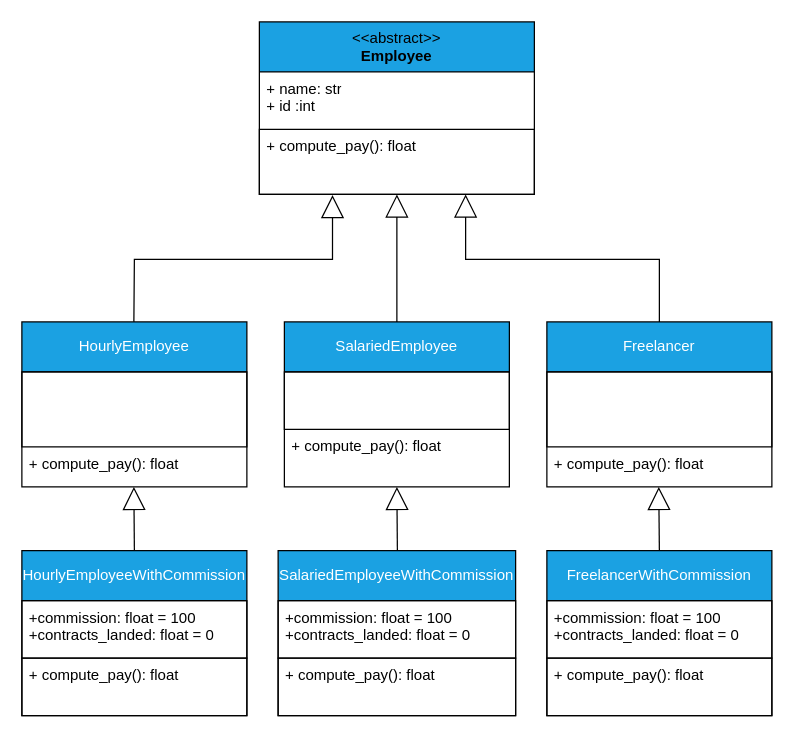
This 794x741 diagram has some shape labels left out. Each missing label, with the centre of its shape:
+monthly_salary: float +percentage: float = 1: point 396,400
+pay_rate: float +hours_worked: int = 0 +employer_cost: float = 1000: point 134,409
+pay_rate: float +hours_worked: int = 0 +vat_number: str = "": point 659,409
